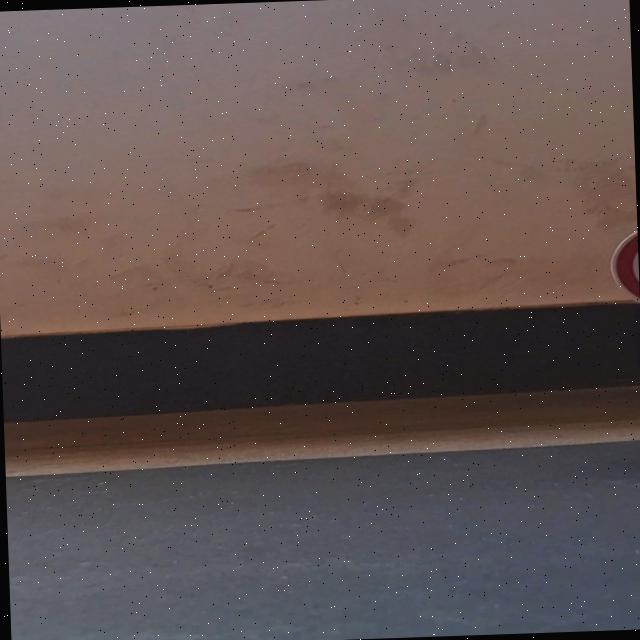Speed20: (595, 211, 640, 324)
